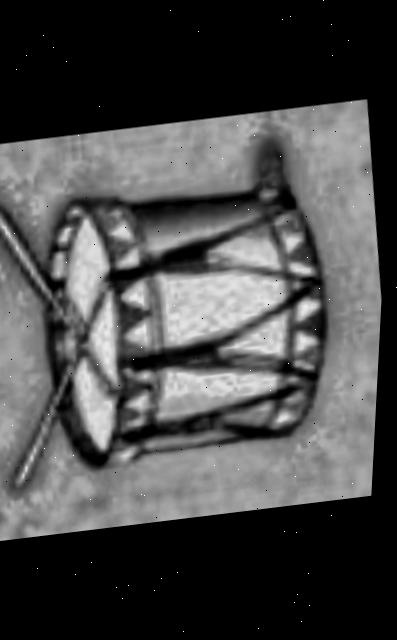El Tambor: (0, 98, 393, 540)
